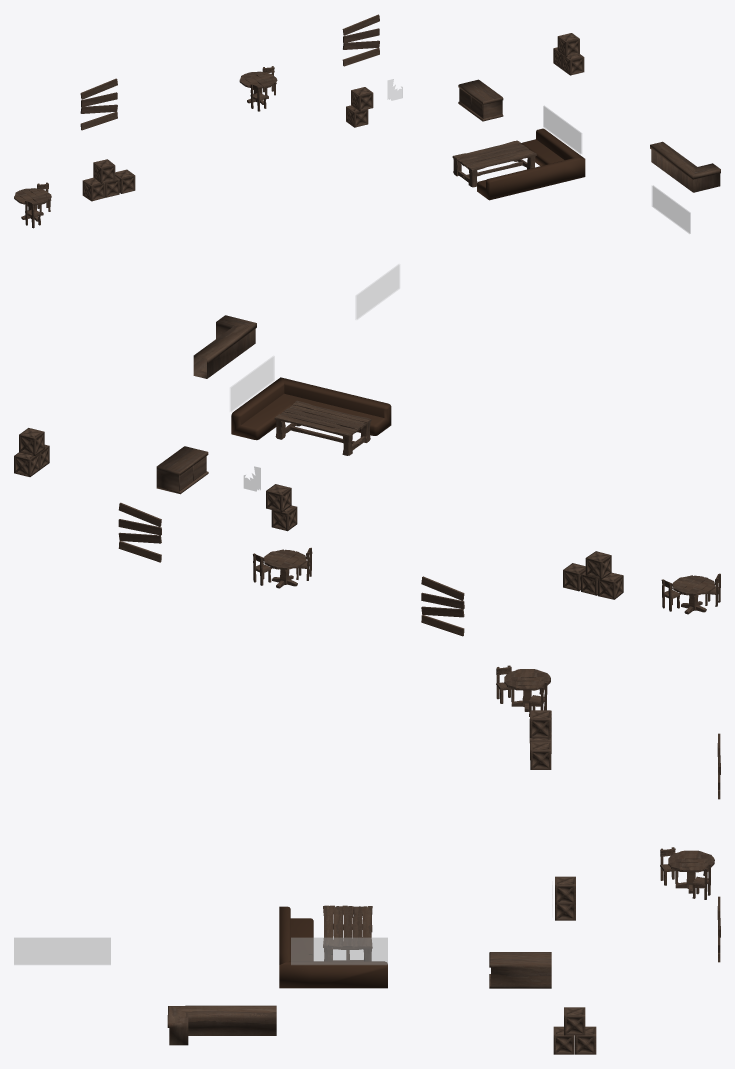
File: Zombiehouse (5).glb
3 views of the same model, one above another, from view 1: azimuth 30°, elevation 25°; view 2: azimuth 150°, elevation 25°; view 3: azimuth 270°, elevation 25° (orthographic). The views are drawn at different scales.
Parts seen in each view (by area): view 1: wooden, Sofa, Windows; view 2: wooden, Sofa, Windows; view 3: wooden, Windows, Sofa.
Boxes of the visible parts, x1,y1,x2,y2 form: wooden: (14, 14, 720, 228); Sofa: (477, 128, 585, 200); Windows: (387, 79, 690, 233); wooden: (14, 315, 720, 636); Sofa: (231, 377, 391, 440); Windows: (230, 264, 399, 491); wooden: (167, 665, 720, 1054); Windows: (14, 881, 552, 964); Sofa: (279, 906, 387, 988).
Size of what is drawn, in the model's own units: 31.12 by 2.34 by 25.91.
4 materials, 3 textured.
